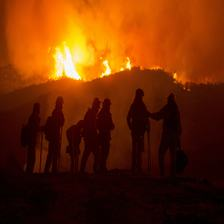fire: (29, 28, 197, 91)
